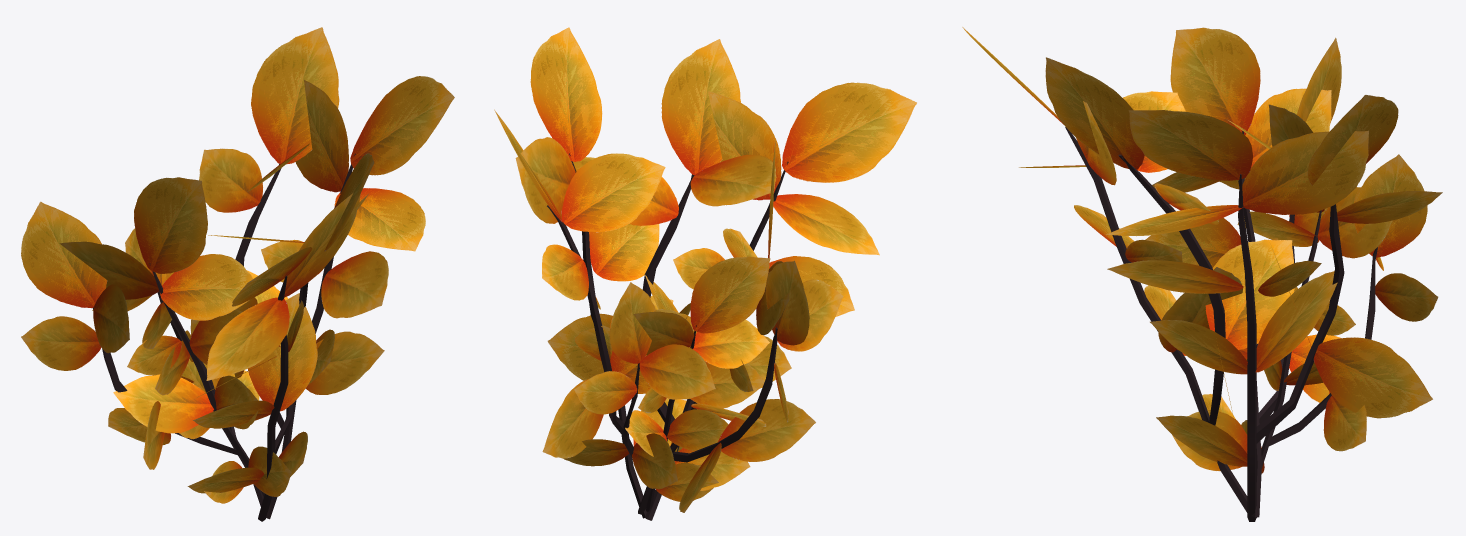
Rendered from yellowbush5.fbx.
3 views of the same model, side by side, from view 1: azimuth 30°, elevation 25°; view 2: azimuth 150°, elevation 25°; view 3: azimuth 270°, elevation 25° (orthographic). The views are drawn at different scales.
Parts seen in each view (by area): view 1: pCylinder1062; view 2: pCylinder1062; view 3: pCylinder1062.
Part boxes in pixels (x1,y1,x2,y2): pCylinder1062: (21, 27, 454, 521); pCylinder1062: (494, 27, 916, 520); pCylinder1062: (962, 27, 1442, 521).
Bounding box in the file's own units: 5.26 × 6.26 × 5.71.
